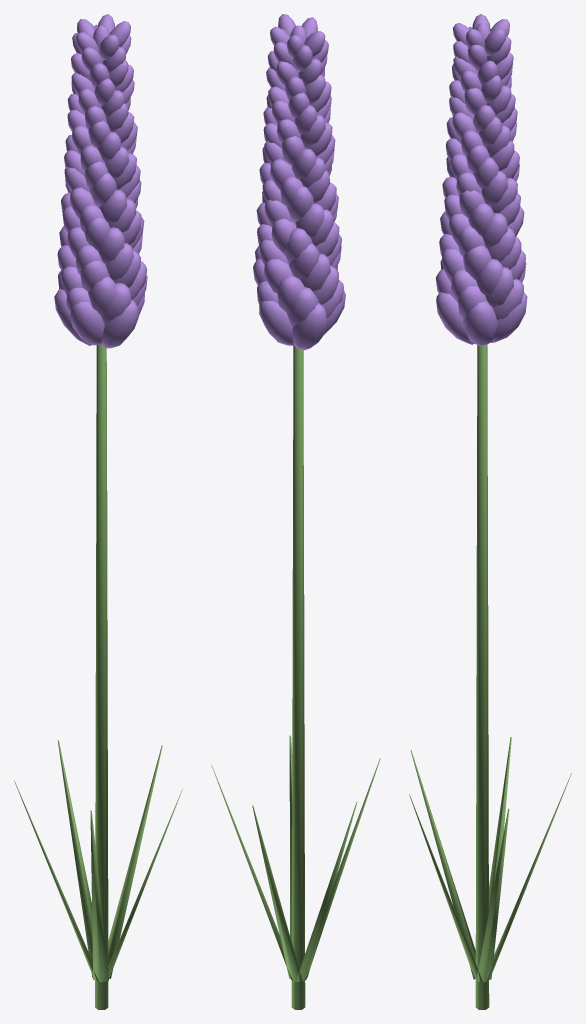
The model's file is Lavender.fbx.
3 views of the same model, side by side, from view 1: azimuth 30°, elevation 25°; view 2: azimuth 150°, elevation 25°; view 3: azimuth 270°, elevation 25° (orthographic).
Visible parts, largest first — view 1: Head, Stem, Leaves; view 2: Head, Stem, Leaves; view 3: Head, Stem, Leaves.
Part boxes in pixels (left/top/right/bottom): Head: left=54, top=14, right=147, bottom=348; Stem: left=95, top=345, right=108, bottom=1009; Leaves: left=14, top=740, right=182, bottom=982; Head: left=253, top=14, right=345, bottom=350; Stem: left=291, top=345, right=305, bottom=1009; Leaves: left=211, top=735, right=380, bottom=981; Head: left=435, top=14, right=527, bottom=346; Stem: left=475, top=345, right=489, bottom=1009; Leaves: left=409, top=737, right=571, bottom=981.
Bounding box in the file's own units: 0.1055 × 0.6748 × 0.1009.
